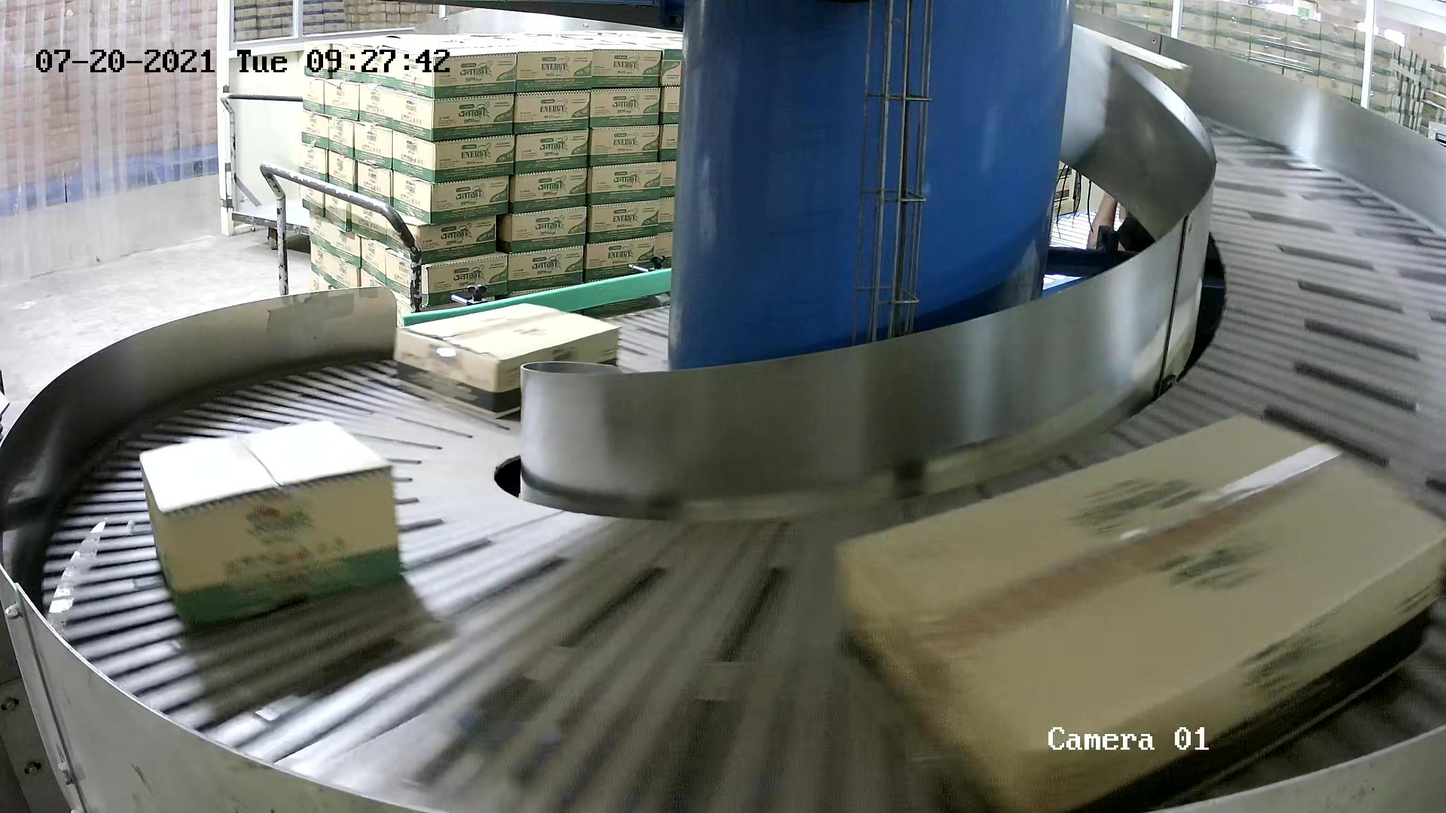Box: (829, 409, 1446, 813), (136, 418, 405, 627), (390, 300, 622, 418)
